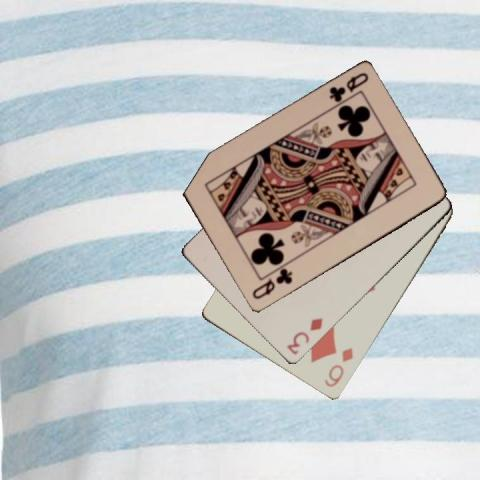3d: (283, 315, 325, 357)
6d: (321, 345, 355, 389)
Qc: (249, 266, 294, 301), (326, 70, 370, 105)
